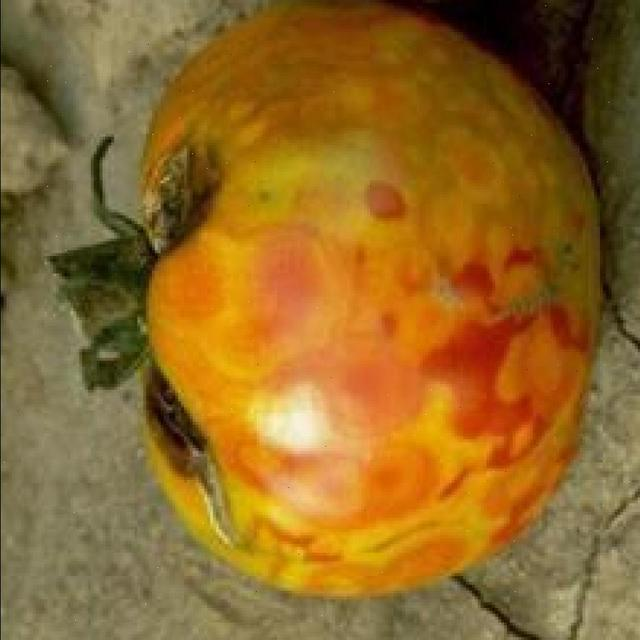Spotted wilt Virus Fruit: (95, 0, 402, 400)
